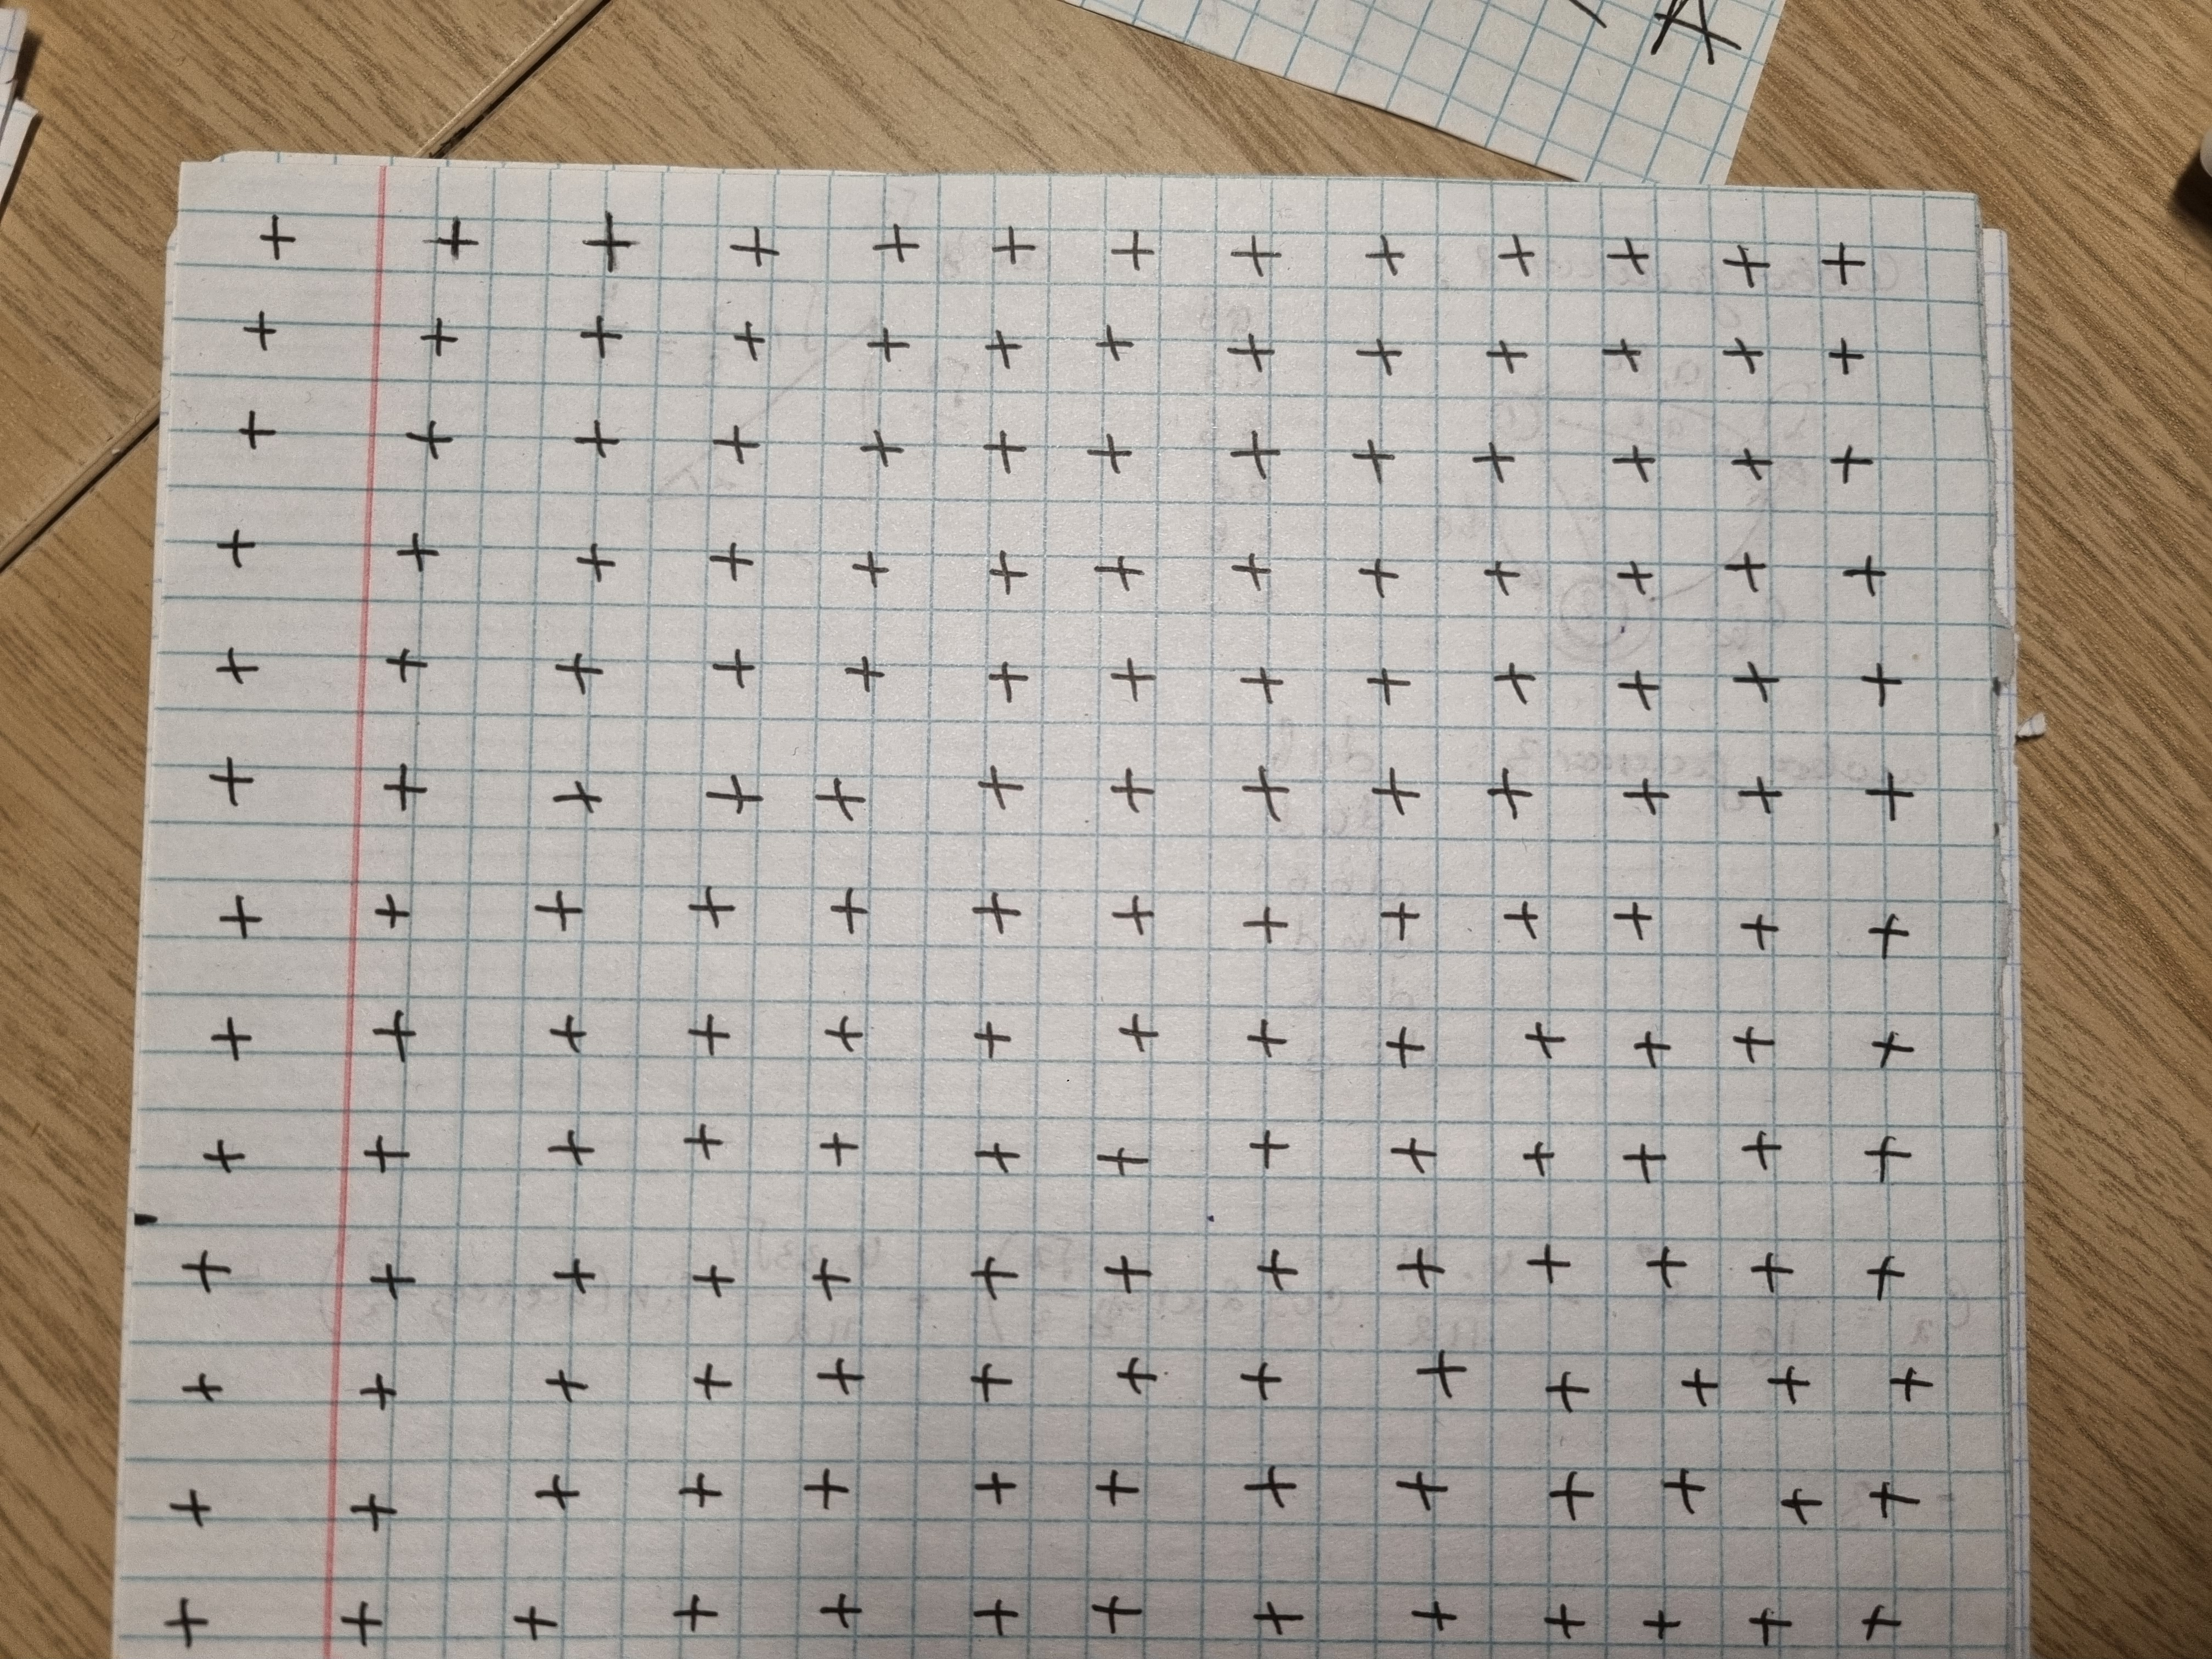+: (575, 202, 639, 279), (726, 218, 789, 281), (373, 755, 434, 819), (1238, 758, 1298, 824), (418, 207, 481, 268), (681, 875, 738, 939), (1857, 1131, 1918, 1190), (1103, 758, 1157, 823), (679, 1002, 742, 1056), (1228, 223, 1285, 281), (721, 307, 779, 364), (200, 746, 256, 805), (968, 758, 1029, 812), (984, 216, 1040, 274), (211, 887, 266, 945), (968, 1131, 1031, 1182), (399, 410, 456, 464), (702, 769, 759, 823), (533, 882, 587, 939), (1594, 326, 1653, 378), (1484, 756, 1533, 819), (371, 999, 420, 1061), (707, 415, 765, 467), (549, 645, 606, 697), (812, 767, 864, 824), (1103, 648, 1162, 699), (251, 202, 300, 263), (1228, 425, 1282, 479), (1615, 659, 1669, 713), (967, 882, 1021, 936), (1719, 234, 1773, 288), (869, 213, 921, 268), (1601, 227, 1656, 279), (1224, 322, 1280, 375), (388, 521, 444, 573), (1864, 1021, 1916, 1077), (1082, 427, 1139, 477), (1360, 227, 1413, 281), (1491, 227, 1543, 281), (1348, 429, 1400, 483), (543, 1121, 596, 1175), (810, 1122, 864, 1175), (1238, 1117, 1291, 1171), (571, 301, 622, 357), (1468, 432, 1519, 488), (679, 1112, 728, 1169), (575, 411, 627, 464), (570, 535, 622, 587), (981, 545, 1031, 599), (1366, 765, 1420, 816), (1864, 769, 1914, 823), (1355, 328, 1407, 378), (862, 317, 914, 368), (1355, 547, 1406, 599), (211, 641, 263, 692), (554, 769, 606, 819), (1108, 889, 1160, 939), (413, 307, 460, 362), (702, 535, 758, 582), (707, 641, 763, 688), (1386, 1131, 1444, 1176), (977, 321, 1026, 373), (206, 1011, 258, 1060), (1238, 1012, 1291, 1061), (1620, 769, 1674, 816), (1500, 892, 1548, 943), (1622, 1133, 1672, 1182), (1089, 315, 1136, 368), (237, 301, 284, 354), (1094, 545, 1146, 592), (1240, 903, 1292, 950), (366, 884, 413, 936), (1113, 1004, 1160, 1056), (1735, 770, 1789, 816), (199, 1127, 247, 1176), (1113, 223, 1160, 274), (979, 425, 1029, 472), (981, 652, 1031, 699), (1627, 1023, 1677, 1070), (376, 638, 428, 683), (1609, 892, 1663, 936), (1730, 657, 1784, 701), (230, 404, 277, 453), (1230, 545, 1277, 594), (1364, 657, 1413, 704), (1517, 1012, 1564, 1061), (1857, 657, 1904, 706), (1728, 1018, 1777, 1065), (1611, 437, 1662, 483), (357, 1131, 408, 1176), (1480, 331, 1533, 375), (841, 647, 888, 694), (820, 1007, 867, 1054), (1820, 331, 1867, 378), (1740, 1124, 1787, 1171), (1615, 549, 1663, 594), (1510, 1131, 1559, 1176), (545, 1007, 590, 1056), (1818, 239, 1864, 288), (826, 882, 869, 932), (1839, 549, 1890, 592), (1489, 655, 1541, 697), (972, 1014, 1014, 1066), (1099, 1138, 1151, 1180), (848, 542, 895, 587), (1240, 659, 1287, 702), (1479, 547, 1522, 592), (1719, 333, 1768, 373), (1824, 441, 1872, 481), (1379, 1021, 1423, 1065), (211, 521, 256, 563), (1374, 894, 1420, 936), (1738, 908, 1780, 953), (862, 425, 904, 469), (1726, 547, 1773, 584), (1865, 910, 1907, 950), (1728, 441, 1775, 474)
